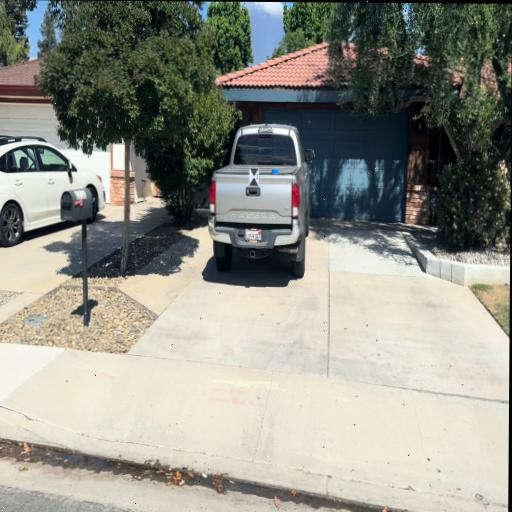target1: (249, 167, 259, 187)
